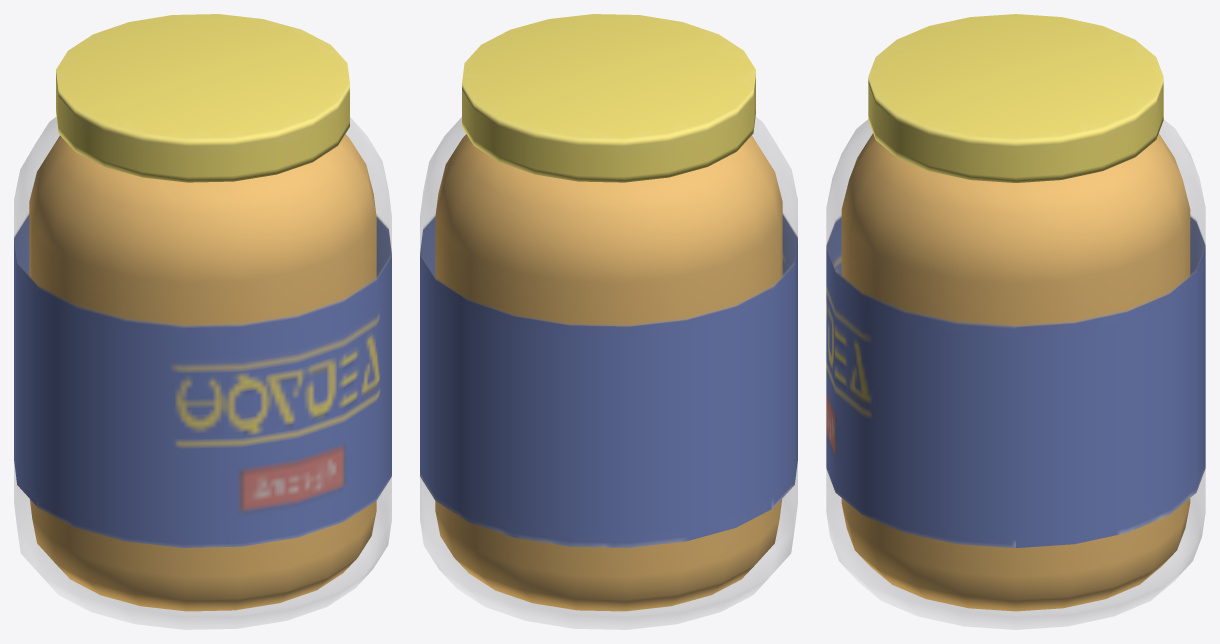
The model's file is pi_peanutbutter01.gltf.
3 renders of one model, left to right at view 1: azimuth 30°, elevation 25°; view 2: azimuth 150°, elevation 25°; view 3: azimuth 270°, elevation 25°, orthographic.
Visible parts, largest first — view 1: pi_peanutbutter01_bottle_label01_mesh_shape:pi_peanutbutter0, pi_peanutbutter01_bottle_outside01_mesh_shape:pi_peanutbutte, pi_peanutbutter01_inside01_mesh_shape:pi_peanutbutter01_body, pi_peanutbutter01_lid01_mesh_shape:pi_peanutbutter01_lid; view 2: pi_peanutbutter01_bottle_label01_mesh_shape:pi_peanutbutter0, pi_peanutbutter01_bottle_outside01_mesh_shape:pi_peanutbutte, pi_peanutbutter01_inside01_mesh_shape:pi_peanutbutter01_body, pi_peanutbutter01_lid01_mesh_shape:pi_peanutbutter01_lid; view 3: pi_peanutbutter01_bottle_label01_mesh_shape:pi_peanutbutter0, pi_peanutbutter01_bottle_outside01_mesh_shape:pi_peanutbutte, pi_peanutbutter01_inside01_mesh_shape:pi_peanutbutter01_body, pi_peanutbutter01_lid01_mesh_shape:pi_peanutbutter01_lid.
Part boxes in pixels (box(x1,y1,x2,y2)): pi_peanutbutter01_bottle_label01_mesh_shape:pi_peanutbutter0: box(14, 214, 391, 547); pi_peanutbutter01_bottle_outside01_mesh_shape:pi_peanutbutte: box(14, 117, 391, 629); pi_peanutbutter01_inside01_mesh_shape:pi_peanutbutter01_body: box(29, 134, 376, 611); pi_peanutbutter01_lid01_mesh_shape:pi_peanutbutter01_lid: box(56, 14, 349, 182); pi_peanutbutter01_bottle_label01_mesh_shape:pi_peanutbutter0: box(420, 214, 797, 547); pi_peanutbutter01_bottle_outside01_mesh_shape:pi_peanutbutte: box(420, 117, 797, 629); pi_peanutbutter01_inside01_mesh_shape:pi_peanutbutter01_body: box(435, 134, 782, 611); pi_peanutbutter01_lid01_mesh_shape:pi_peanutbutter01_lid: box(462, 14, 755, 182); pi_peanutbutter01_bottle_label01_mesh_shape:pi_peanutbutter0: box(826, 217, 1205, 547); pi_peanutbutter01_bottle_outside01_mesh_shape:pi_peanutbutte: box(826, 120, 1205, 629); pi_peanutbutter01_inside01_mesh_shape:pi_peanutbutter01_body: box(841, 133, 1190, 611); pi_peanutbutter01_lid01_mesh_shape:pi_peanutbutter01_lid: box(868, 14, 1163, 182).
Size of the model in its own units: 0.0838 by 0.1177 by 0.0838.
Materials: 4 (4 with a texture image).
